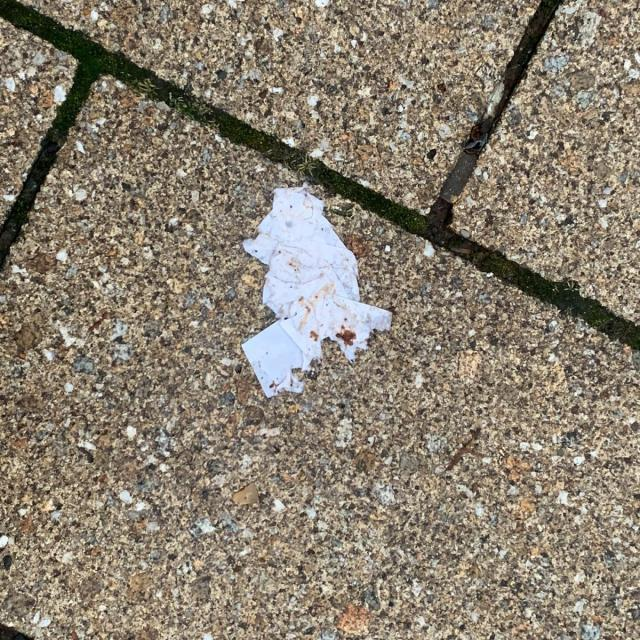Paper: (238, 180, 397, 400)
